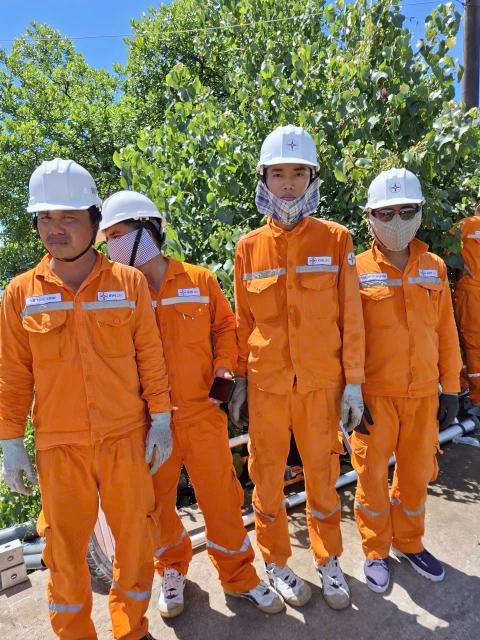gloves: (137, 396, 183, 481), (222, 367, 273, 438), (1, 439, 43, 498), (327, 377, 366, 440), (342, 383, 383, 437), (434, 382, 466, 433)
helmet: (0, 146, 124, 217), (247, 112, 352, 175), (356, 161, 457, 219), (98, 179, 184, 240)
shoes: (211, 562, 287, 620), (393, 526, 462, 585), (149, 560, 202, 622), (350, 542, 401, 601), (267, 552, 314, 612), (308, 552, 358, 608)
